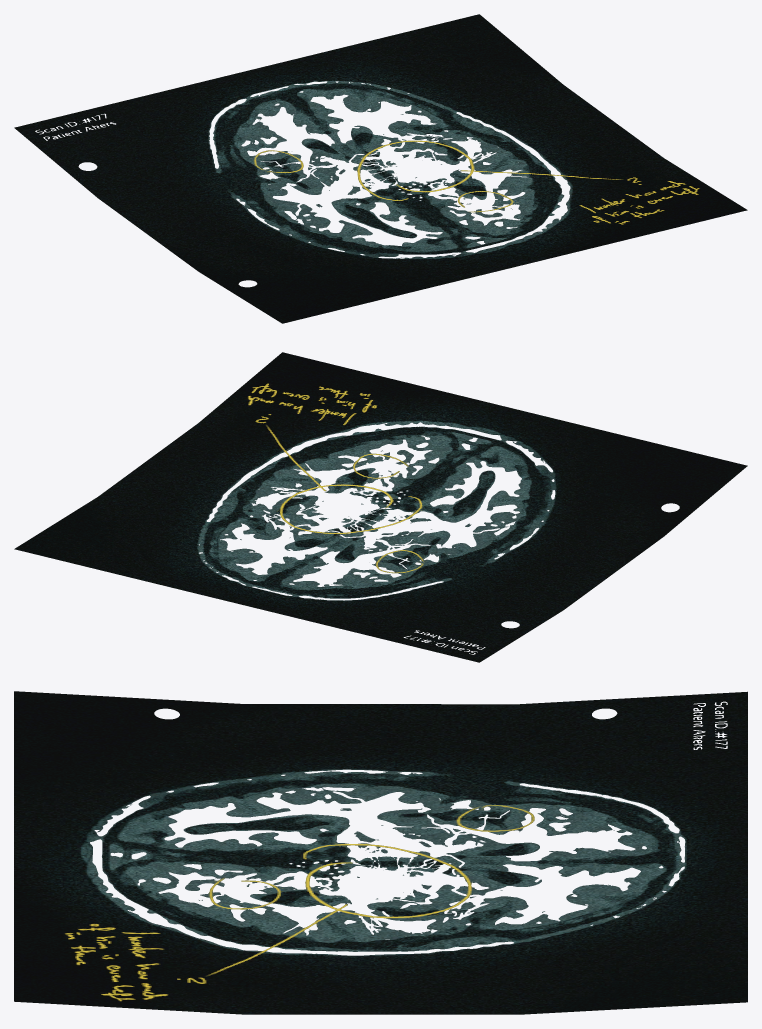
Rendered from theta_infirmary_xray_03.dae.
3 renders of one model, top to bottom at view 1: azimuth 30°, elevation 25°; view 2: azimuth 150°, elevation 25°; view 3: azimuth 270°, elevation 25°, orthographic. The views are drawn at different scales.
Visible parts, largest first — view 1: 03; view 2: 03; view 3: 03.
Boxes of the visible parts, x1,y1,x2,y2 form: 03: (14, 14, 747, 323); 03: (14, 352, 747, 662); 03: (14, 691, 747, 1014).
Bounding box in the file's own units: 0.25 × 0.00489 × 0.2497.
